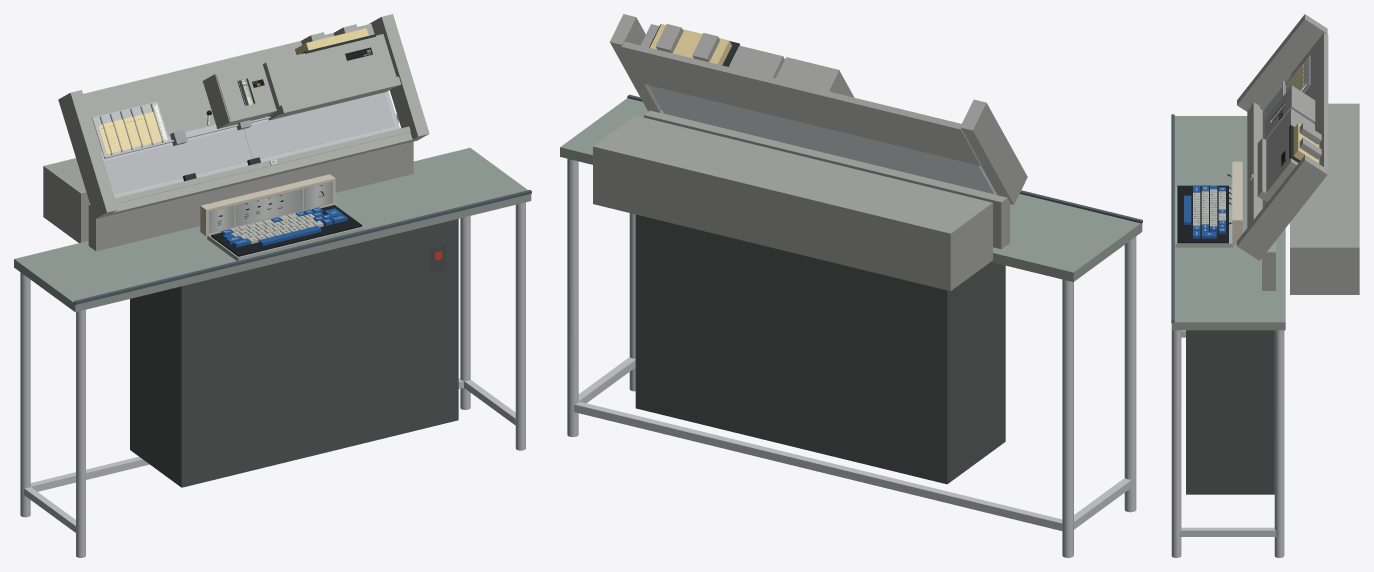
File: 029-perfuradora.glb
The picture shows the model from 3 angles, left to right: view 1: azimuth 30°, elevation 25°; view 2: azimuth 150°, elevation 25°; view 3: azimuth 270°, elevation 25°; orthographic projection. The views are drawn at different scales.
Parts seen in each view (by area): view 1: 029-perfuradora_peca_9, 029-perfuradora_peca_0, 029-perfuradora_peca_13, 029-perfuradora_peca_12, 029-perfuradora_peca_14, 029-perfuradora_peca_23, 029-perfuradora_peca_15, 029-perfuradora_peca_17, 029-perfuradora_peca_11, painel_swpanel, 029-perfuradora_peca_5, 029-perfuradora_peca_2 (+19 smaller); view 2: 029-perfuradora_peca_9, 029-perfuradora_peca_11, 029-perfuradora_peca_14, 029-perfuradora_peca_0, clicavel_1, 029-perfuradora_peca_6, 029-perfuradora_peca_12, 029-perfuradora_peca_4, 029-perfuradora_peca_17, 029-perfuradora_peca_2, 029-perfuradora_peca_3, 029-perfuradora_peca_18 (+6 smaller); view 3: 029-perfuradora_peca_9, 029-perfuradora_peca_0, 029-perfuradora_peca_11, 029-perfuradora_peca_18, 029-perfuradora_peca_17, 029-perfuradora_peca_5, 029-perfuradora_peca_3, 029-perfuradora_peca_14, 029-perfuradora_peca_23, 029-perfuradora_peca_45, 029-perfuradora_peca_16, 029-perfuradora_peca_8 (+13 smaller).
Boxes of the visible parts, <box> form: 029-perfuradora_peca_9: <box>130,219,458,487</box>; 029-perfuradora_peca_0: <box>14,148,531,312</box>; 029-perfuradora_peca_13: <box>104,92,394,194</box>; 029-perfuradora_peca_12: <box>88,128,413,251</box>; 029-perfuradora_peca_14: <box>83,23,374,152</box>; 029-perfuradora_peca_23: <box>263,34,396,120</box>; 029-perfuradora_peca_15: <box>92,132,422,218</box>; 029-perfuradora_peca_17: <box>58,90,118,219</box>; 029-perfuradora_peca_11: <box>43,114,398,242</box>; painel_swpanel: <box>208,180,333,233</box>; 029-perfuradora_peca_5: <box>515,202,525,450</box>; 029-perfuradora_peca_2: <box>20,272,30,517</box>; 029-perfuradora_peca_9: <box>635,214,1005,484</box>; 029-perfuradora_peca_11: <box>593,115,992,291</box>; 029-perfuradora_peca_14: <box>621,42,981,165</box>; 029-perfuradora_peca_0: <box>560,98,1142,281</box>; clicavel_1: <box>648,85,995,193</box>; 029-perfuradora_peca_6: <box>574,401,1062,531</box>; 029-perfuradora_peca_12: <box>644,110,1009,249</box>; 029-perfuradora_peca_4: <box>1124,236,1136,512</box>; 029-perfuradora_peca_17: <box>960,99,1027,204</box>; 029-perfuradora_peca_2: <box>1062,279,1073,557</box>; 029-perfuradora_peca_3: <box>567,158,578,436</box>; 029-perfuradora_peca_18: <box>610,14,661,112</box>; 029-perfuradora_peca_9: <box>1186,330,1274,494</box>; 029-perfuradora_peca_0: <box>1172,116,1285,330</box>; 029-perfuradora_peca_11: <box>1290,103,1359,294</box>; 029-perfuradora_peca_18: <box>1237,155,1327,260</box>; 029-perfuradora_peca_17: <box>1237,14,1327,111</box>; 029-perfuradora_peca_5: <box>1171,326,1181,557</box>; 029-perfuradora_peca_3: <box>1274,330,1284,557</box>; 029-perfuradora_peca_14: <box>1290,32,1328,171</box>; 029-perfuradora_peca_23: <box>1262,109,1314,201</box>; 029-perfuradora_peca_45: <box>1177,185,1228,243</box>; 029-perfuradora_peca_16: <box>1250,102,1259,250</box>; 029-perfuradora_peca_8: <box>1179,527,1276,536</box>.
Bounding box in the file's own units: 56 × 46.7 × 21.6.
Materials: 127 (58 with a texture image).
